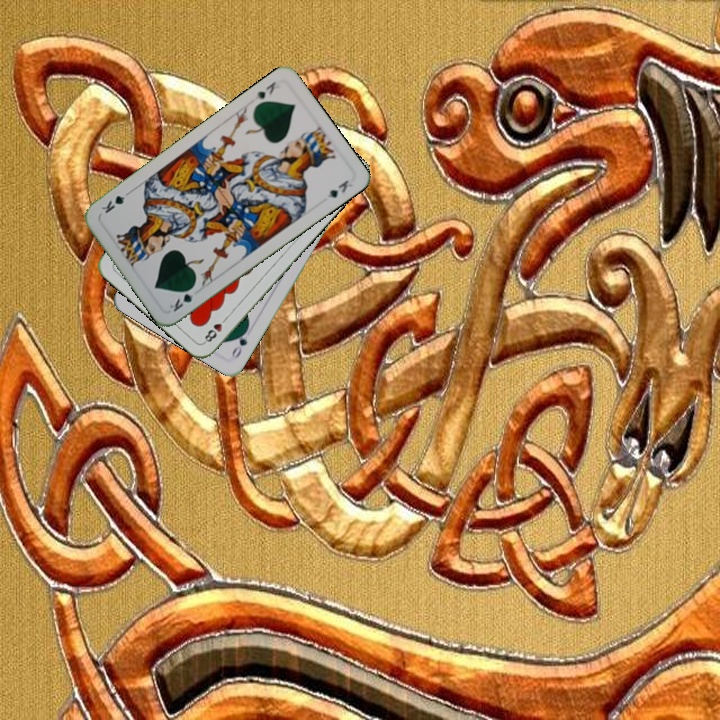GK: (166, 282, 198, 315), (251, 77, 278, 103)
GO: (227, 323, 251, 361)
H8: (200, 312, 231, 345)
